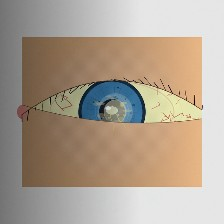corneal_ulcer: (96, 96, 134, 127)
